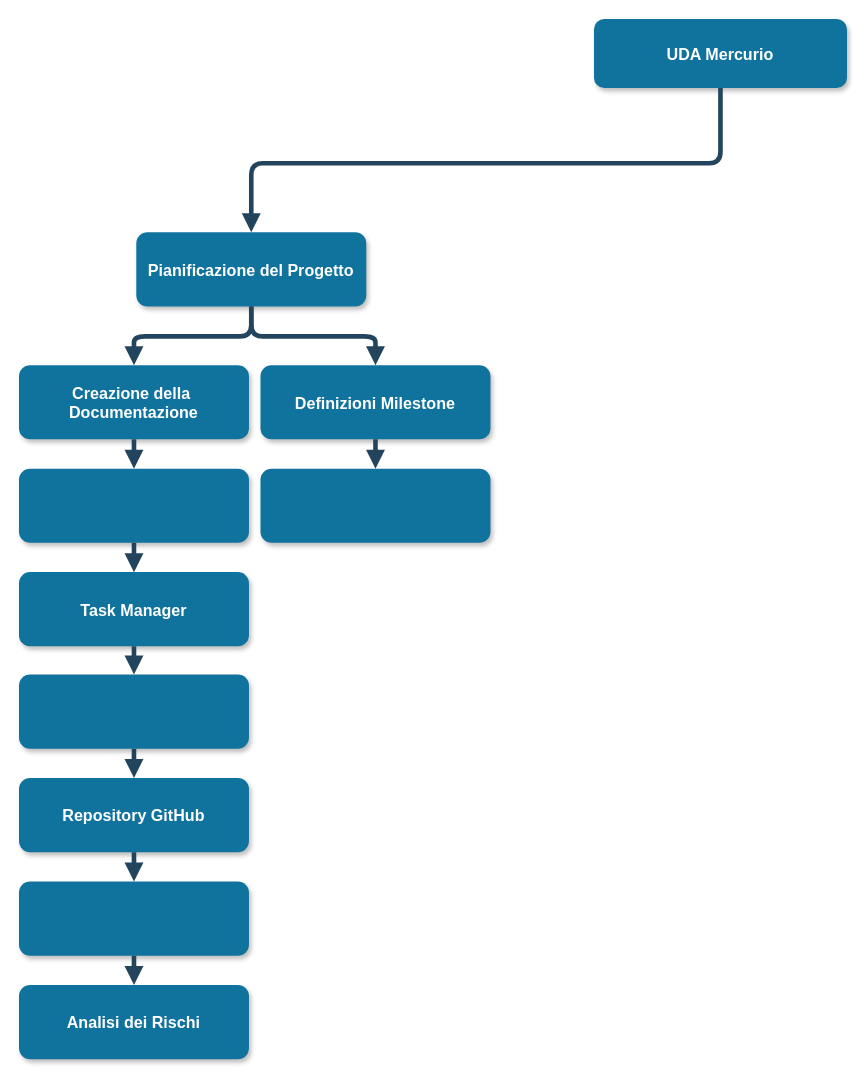
This 866x1078 diagram has some shape labels left out. Here are the shapes that lost their labels. From the top down, the centre of each, then its label:
At point 134,506: "WBS".
At point 376,506: "Identificazione delle precedenze".
At point 134,712: "Gantt".
At point 134,919: "Verbale Riunioni".
